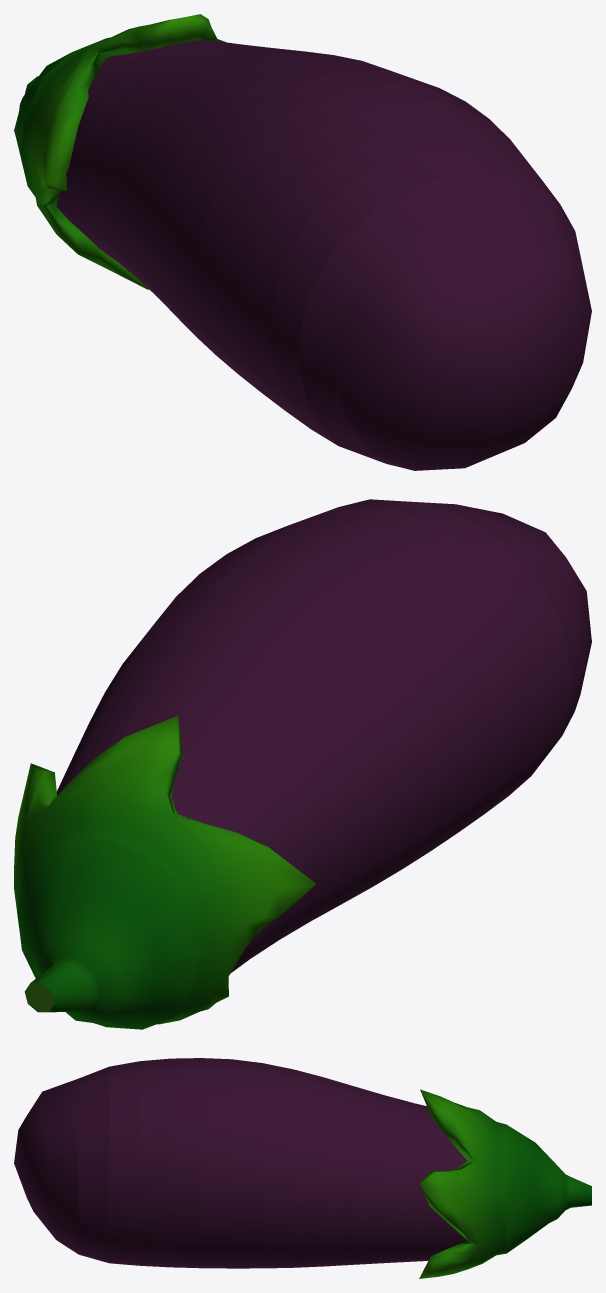
Rendered from brenjal.fbx.
The picture shows the model from 3 angles, top to bottom: view 1: azimuth 30°, elevation 25°; view 2: azimuth 150°, elevation 25°; view 3: azimuth 270°, elevation 25°; orthographic projection. The views are drawn at different scales.
Parts seen in each view (by area): view 1: Eggplant; view 2: Eggplant; view 3: Eggplant.
Boxes of the visible parts, left/top/right/bottom form: Eggplant: left=14, top=14, right=591, bottom=470; Eggplant: left=14, top=499, right=591, bottom=1029; Eggplant: left=14, top=1058, right=591, bottom=1278.
Bounding box in the file's own units: 415 × 379 × 1058.
